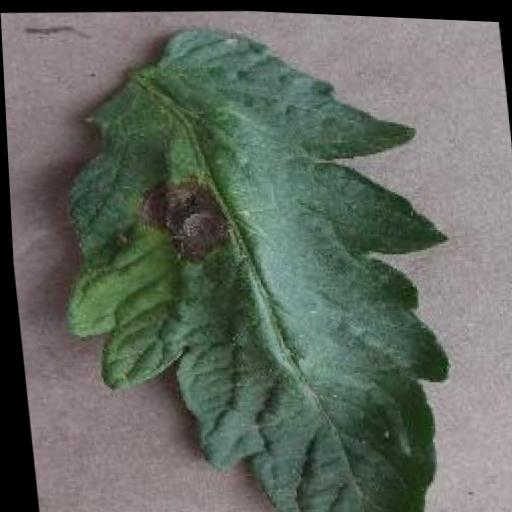Early Blight: (32, 2, 480, 512)
